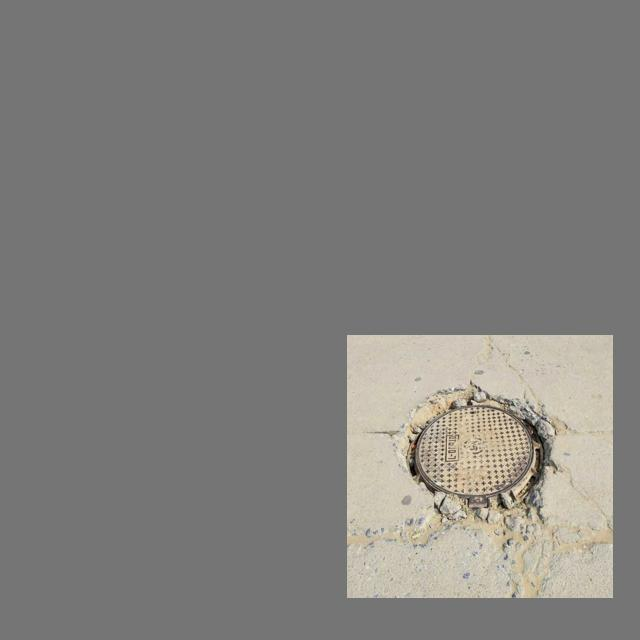circle: (386, 381, 567, 528)
